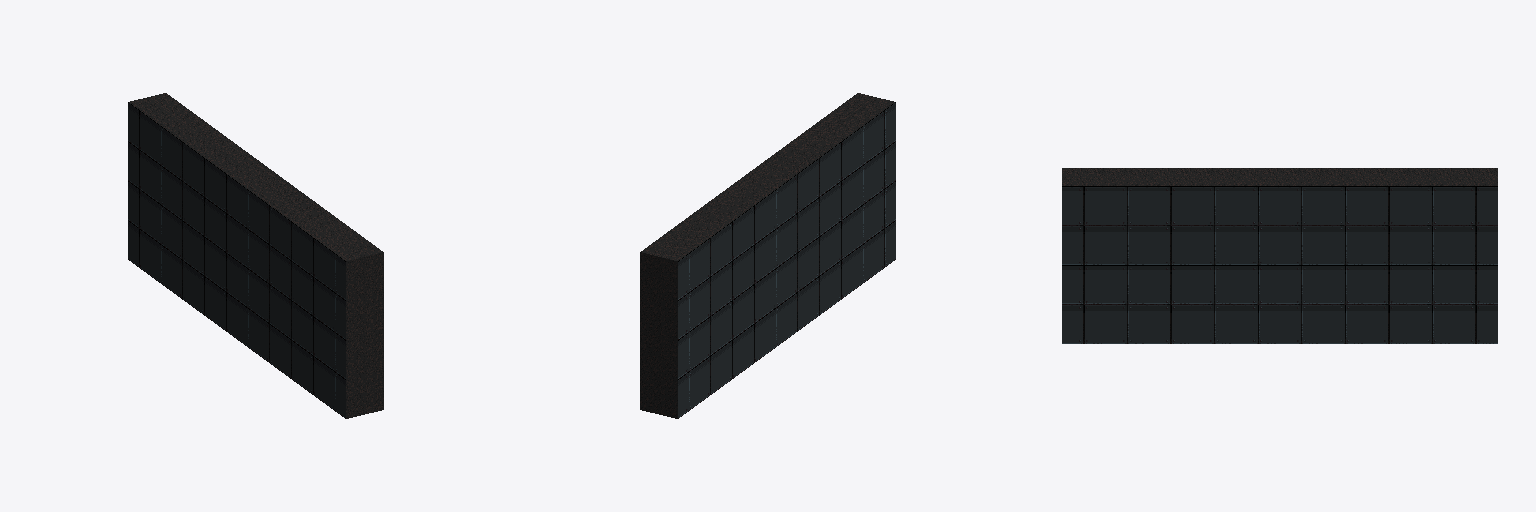
3 renders of one model, left to right at view 1: azimuth 30°, elevation 25°; view 2: azimuth 150°, elevation 25°; view 3: azimuth 270°, elevation 25°, orthographic.
Parts seen in each view (by area): view 1: WallPanelA 4x10x1; view 2: WallPanelA 4x10x1; view 3: WallPanelA 4x10x1.
Part boxes in pixels (x1,y1,x2,y2): WallPanelA 4x10x1: (128, 93, 383, 418); WallPanelA 4x10x1: (640, 93, 895, 418); WallPanelA 4x10x1: (1062, 168, 1497, 343).
Bounding box in the file's own units: 1 × 4 × 10.
Materials: 2 (2 with a texture image).